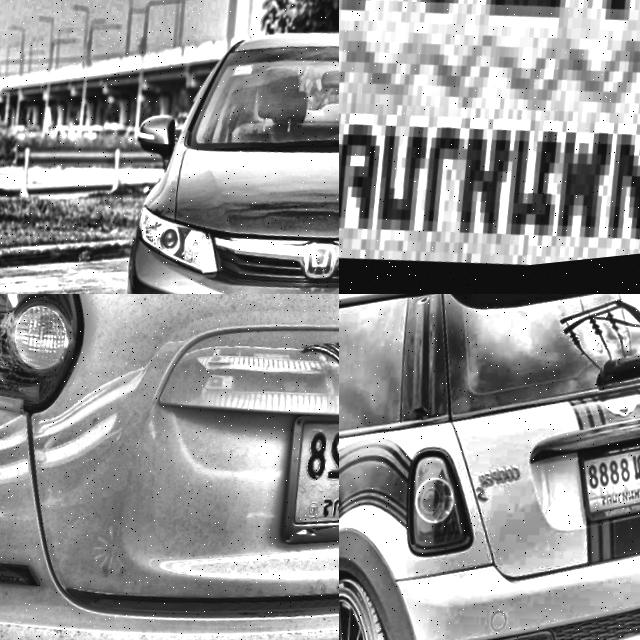license-plate: (339, 0, 640, 294), (270, 395, 339, 581), (566, 432, 640, 546)
